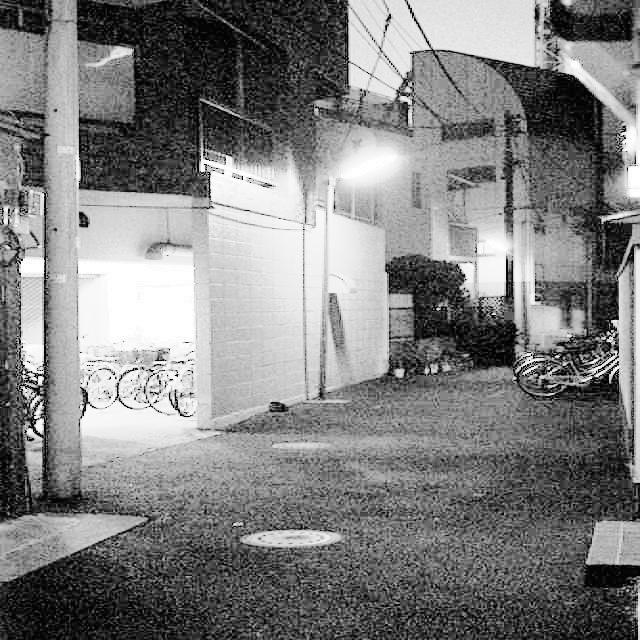Bicycle: (0, 339, 163, 446), (508, 333, 640, 430), (141, 341, 242, 443)
